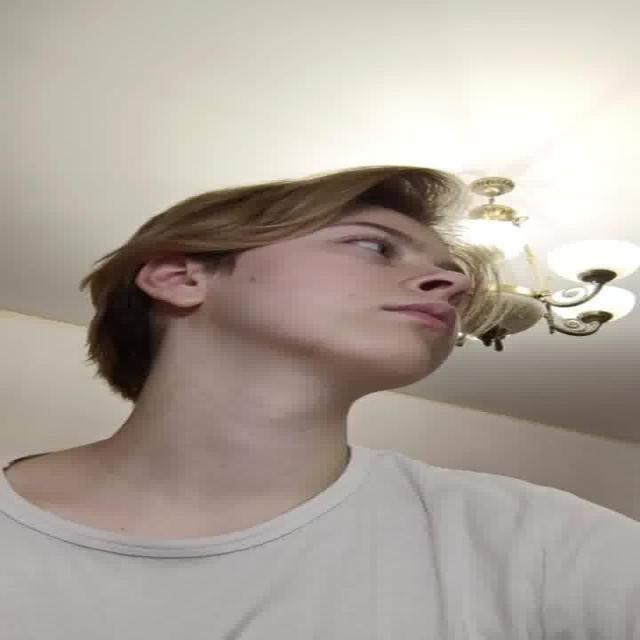earlobe: (166, 284, 203, 308)
eye: (338, 236, 394, 258)
nose: (407, 282, 464, 302)
wholeear: (136, 254, 204, 308)
